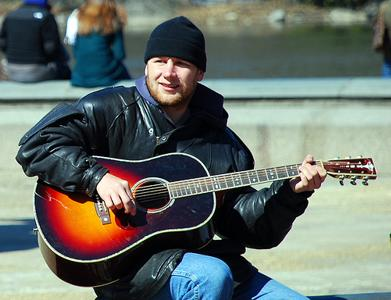person: (16, 16, 327, 299)
